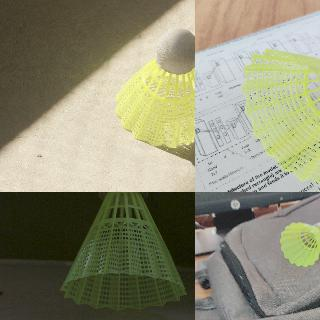shuttlecock: (60, 192, 187, 311), (241, 46, 319, 183), (114, 28, 194, 149), (280, 222, 319, 266)
